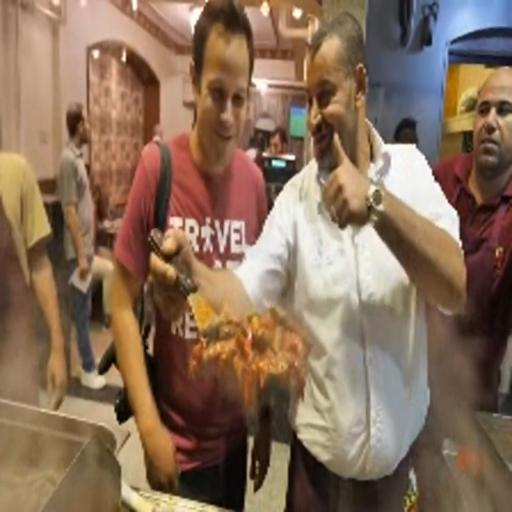nao-violencia: (88, 0, 470, 481)
